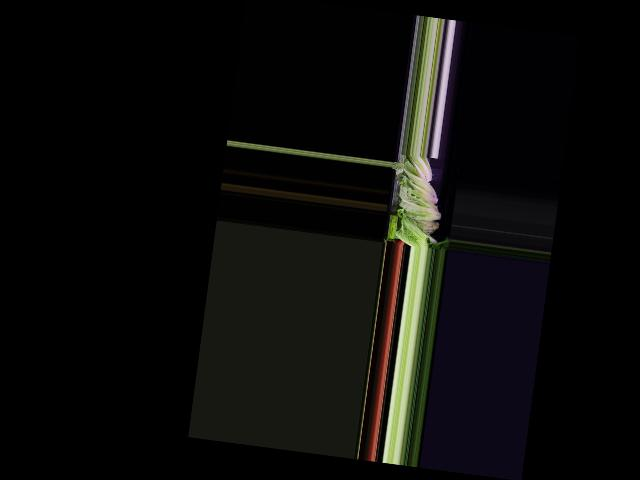lettuce: (403, 153, 435, 184)
